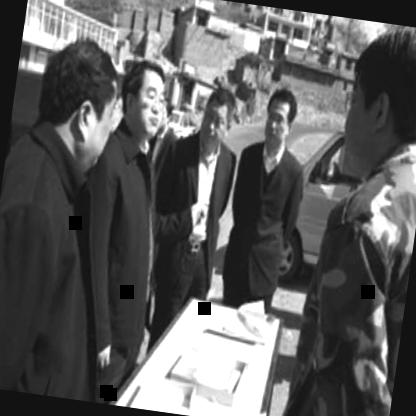head: (332, 18, 416, 185), (36, 33, 126, 165), (116, 48, 173, 145), (196, 78, 241, 158), (258, 81, 302, 160)
